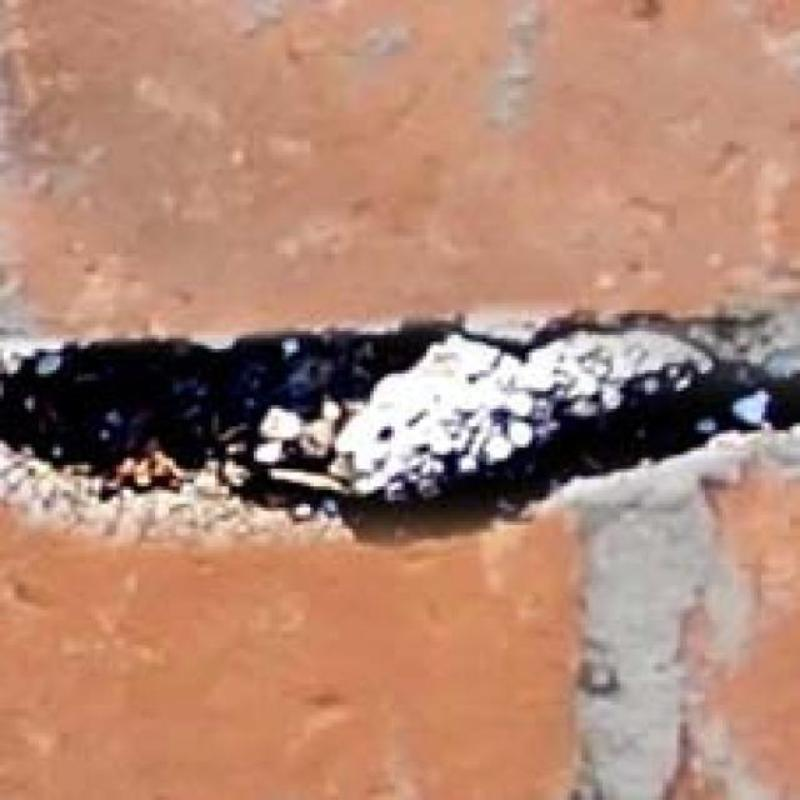pothole: (0, 327, 800, 535)
